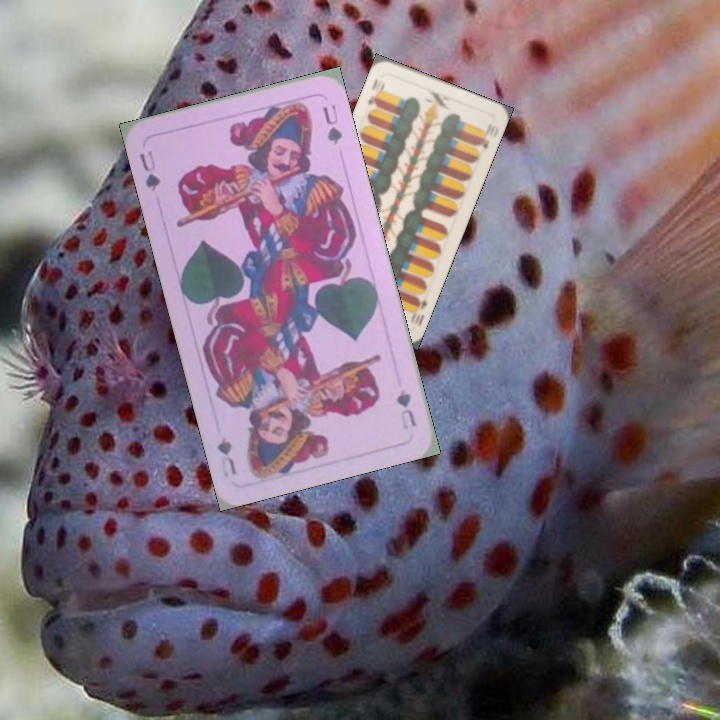E10: (364, 75, 388, 109), (407, 293, 429, 325)
GU: (135, 147, 163, 194), (392, 386, 419, 433)
